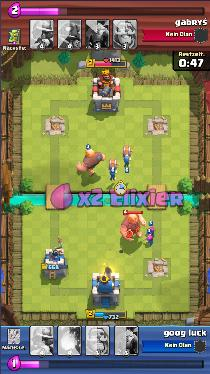ally_archer: (144, 234, 154, 246), (147, 226, 156, 239)
ally_giant: (77, 149, 106, 175)
ally_wallbreaker: (122, 146, 134, 168), (108, 160, 119, 180)
enemy_giant: (120, 211, 146, 242)
